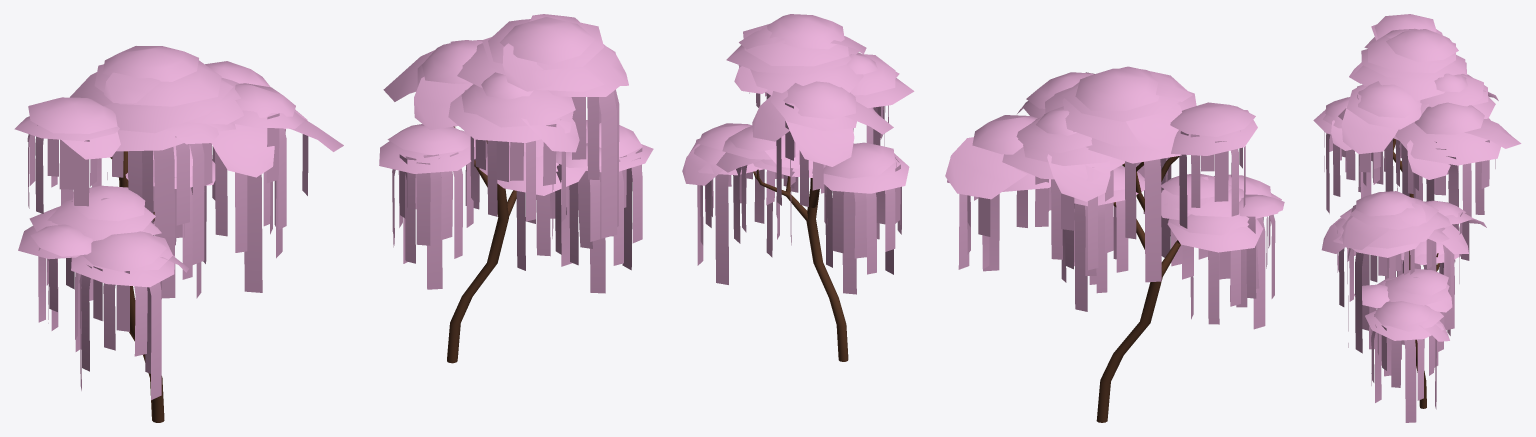
Rendered from le_machin_rose_qui_pendouille.fbx.
3 renders of one model, left to right at view 1: azimuth 30°, elevation 25°; view 2: azimuth 150°, elevation 25°; view 3: azimuth 270°, elevation 25°, orthographic. The views are drawn at different scales.
Visible parts, largest first — view 1: gran pendouillé, premier pendouilli, pendouillon, pedouillou, pendouilla, tronc, pipoudillou, tronccc; view 2: gran pendouillé, premier pendouilli, pendouillon, pedouillou, pendouilla, pipoudillou, tronccc, tronc; view 3: gran pendouillé, premier pendouilli, pedouillou, pendouillon, pipoudillou, pendouilla, tronc.
Boxes of the visible parts, x1,y1,x2,y2 form: gran pendouillé: (14, 46, 343, 298); premier pendouilli: (383, 14, 628, 238); pendouillon: (18, 185, 189, 400); pedouillou: (479, 120, 653, 293); pendouilla: (379, 124, 475, 289); tronc: (447, 126, 516, 363); pipoudillou: (125, 144, 215, 298); tronccc: (110, 151, 164, 422); gran pendouillé: (945, 66, 1257, 282); premier pendouilli: (726, 14, 914, 245); pendouillon: (1161, 174, 1284, 329); pedouillou: (682, 123, 812, 284); pendouilla: (812, 142, 909, 294); pipoudillou: (1049, 165, 1144, 311); tronccc: (1096, 156, 1180, 422); tronc: (753, 169, 848, 361); gran pendouillé: (1338, 14, 1521, 230); premier pendouilli: (1321, 191, 1486, 353); pedouillou: (1354, 268, 1452, 422); pendouillon: (1313, 85, 1401, 213); pipoudillou: (1393, 134, 1458, 200); pendouilla: (1395, 241, 1459, 335); tronc: (1409, 250, 1439, 408).
Size of the model in its own units: 3398 by 1990 by 1397.
